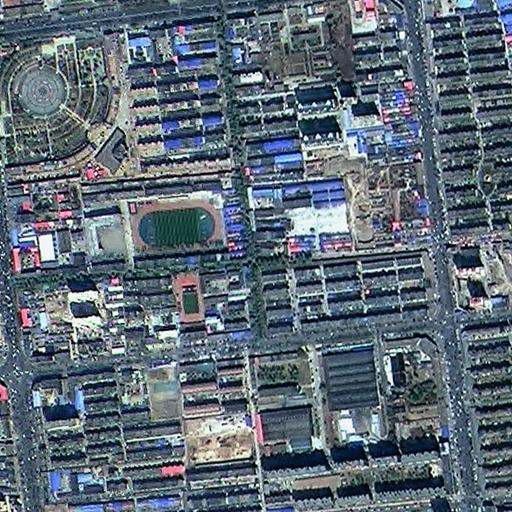school: (84, 193, 226, 266), (284, 180, 353, 253), (174, 264, 247, 324)
